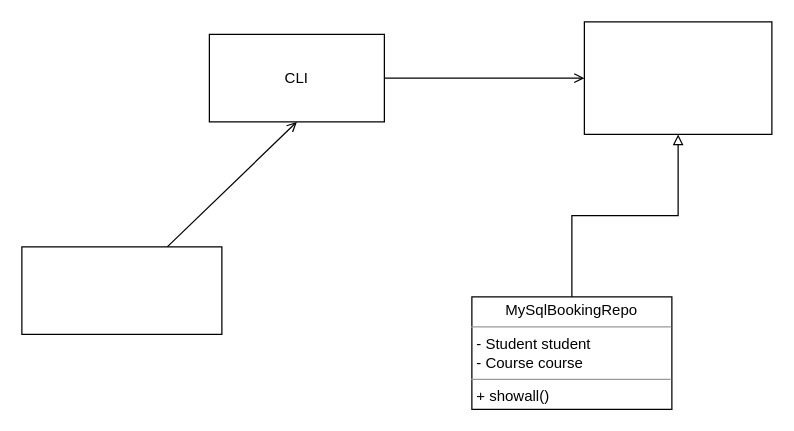
This 794x431 diagram has some shape labels left out. The shapes that lost their labels are listed below. From the top down, each one's centre as x and y in pixels, then its label:
At (x=677, y=77): "«interface» MyBookingRepo".
At (x=121, y=290): "Main".
